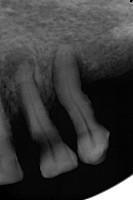Dental Caries: (0, 47, 36, 118), (74, 53, 99, 87), (57, 33, 75, 46)
